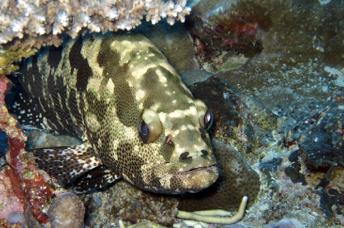Serranidae -Groupers-: (1, 29, 219, 194)
